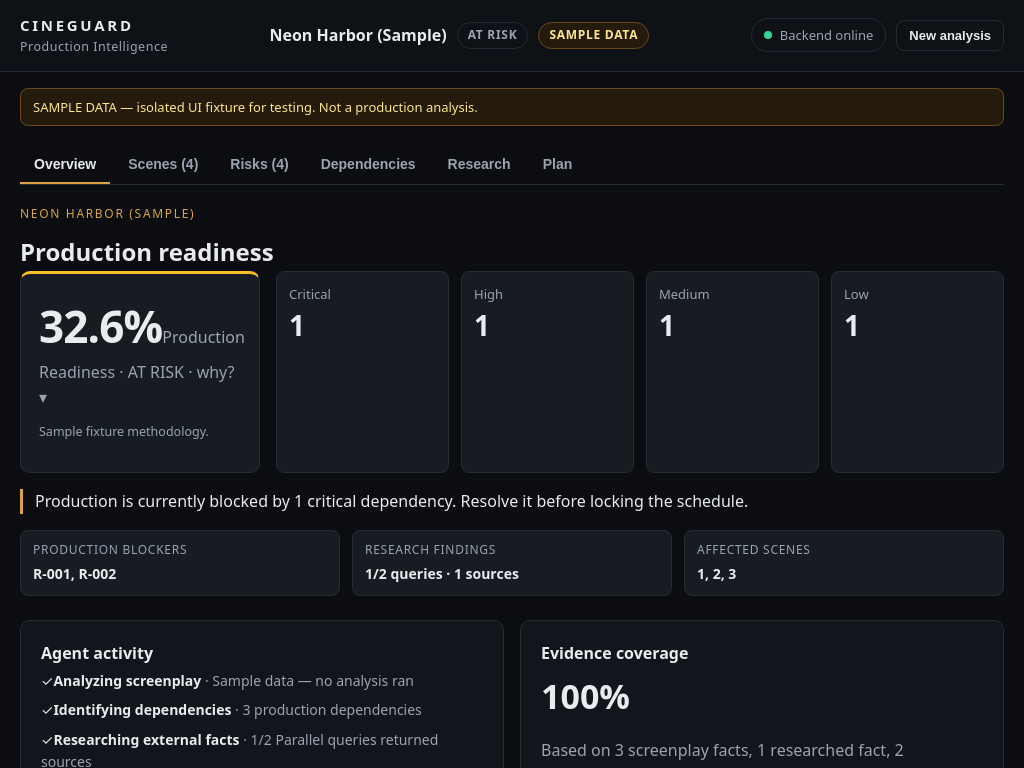
Test case: Command Center › filters scenes by risk level and shows scene detail
Step 1. Click the tab "Scenes (4)" → click(163, 165), box [114,146,212,184]
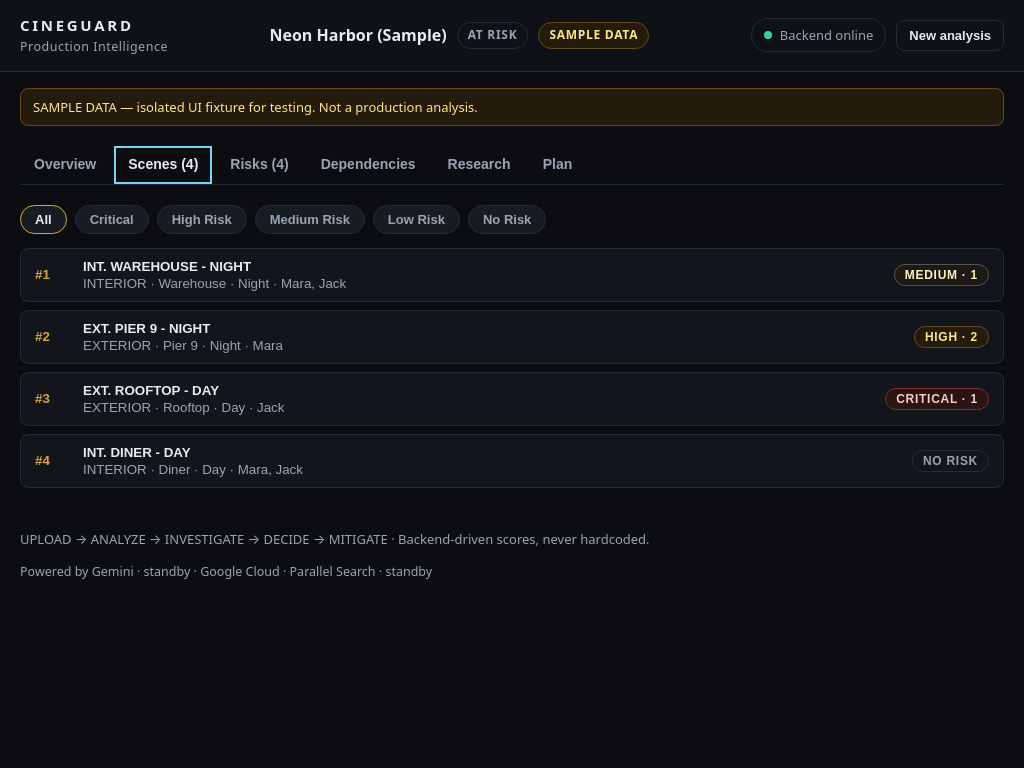
Step 2. Click the button "High Risk" → click(202, 219), box [157,205,247,234]
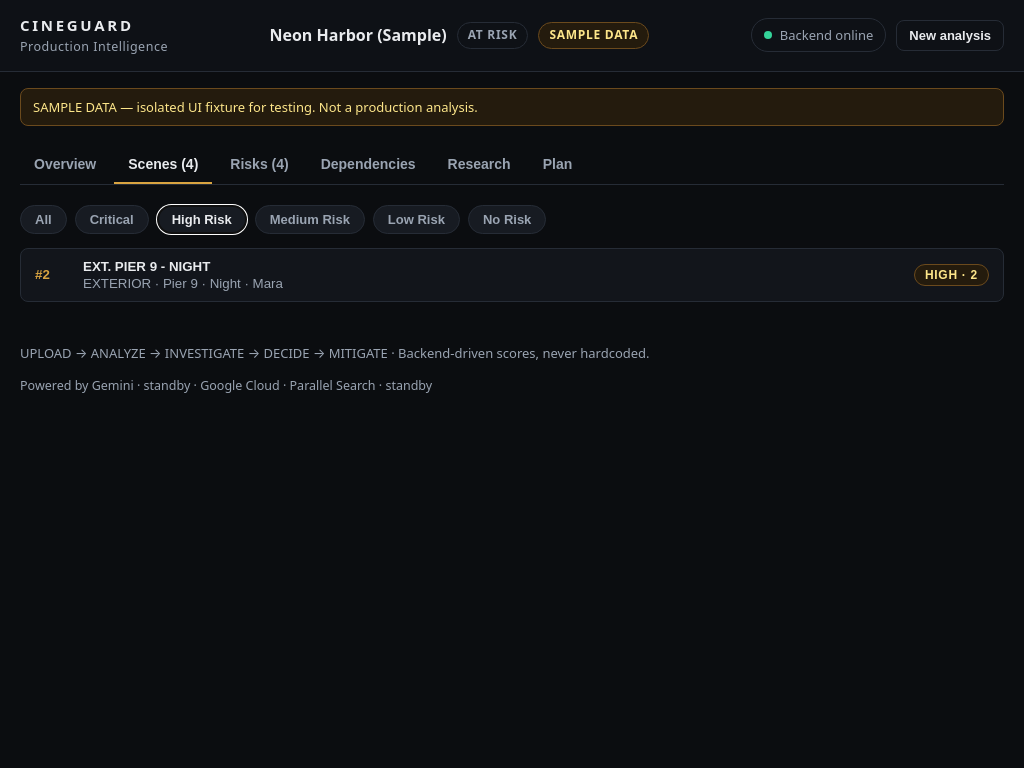
Expected: the button with aria-label "open scene 2" is shown
Step 3. Click the button with aria-label "open scene 2" → click(147, 266), box [20,248,1004,302]
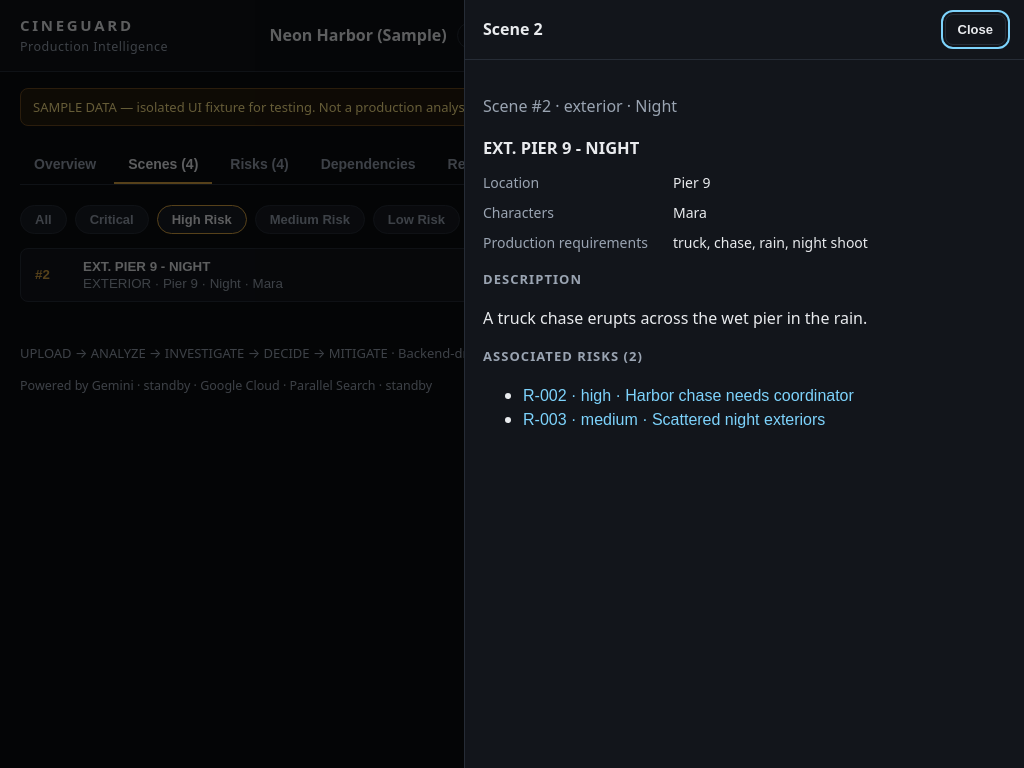
Expected: the dialog shows "associated risks (2)", [464,0,1023,767]
